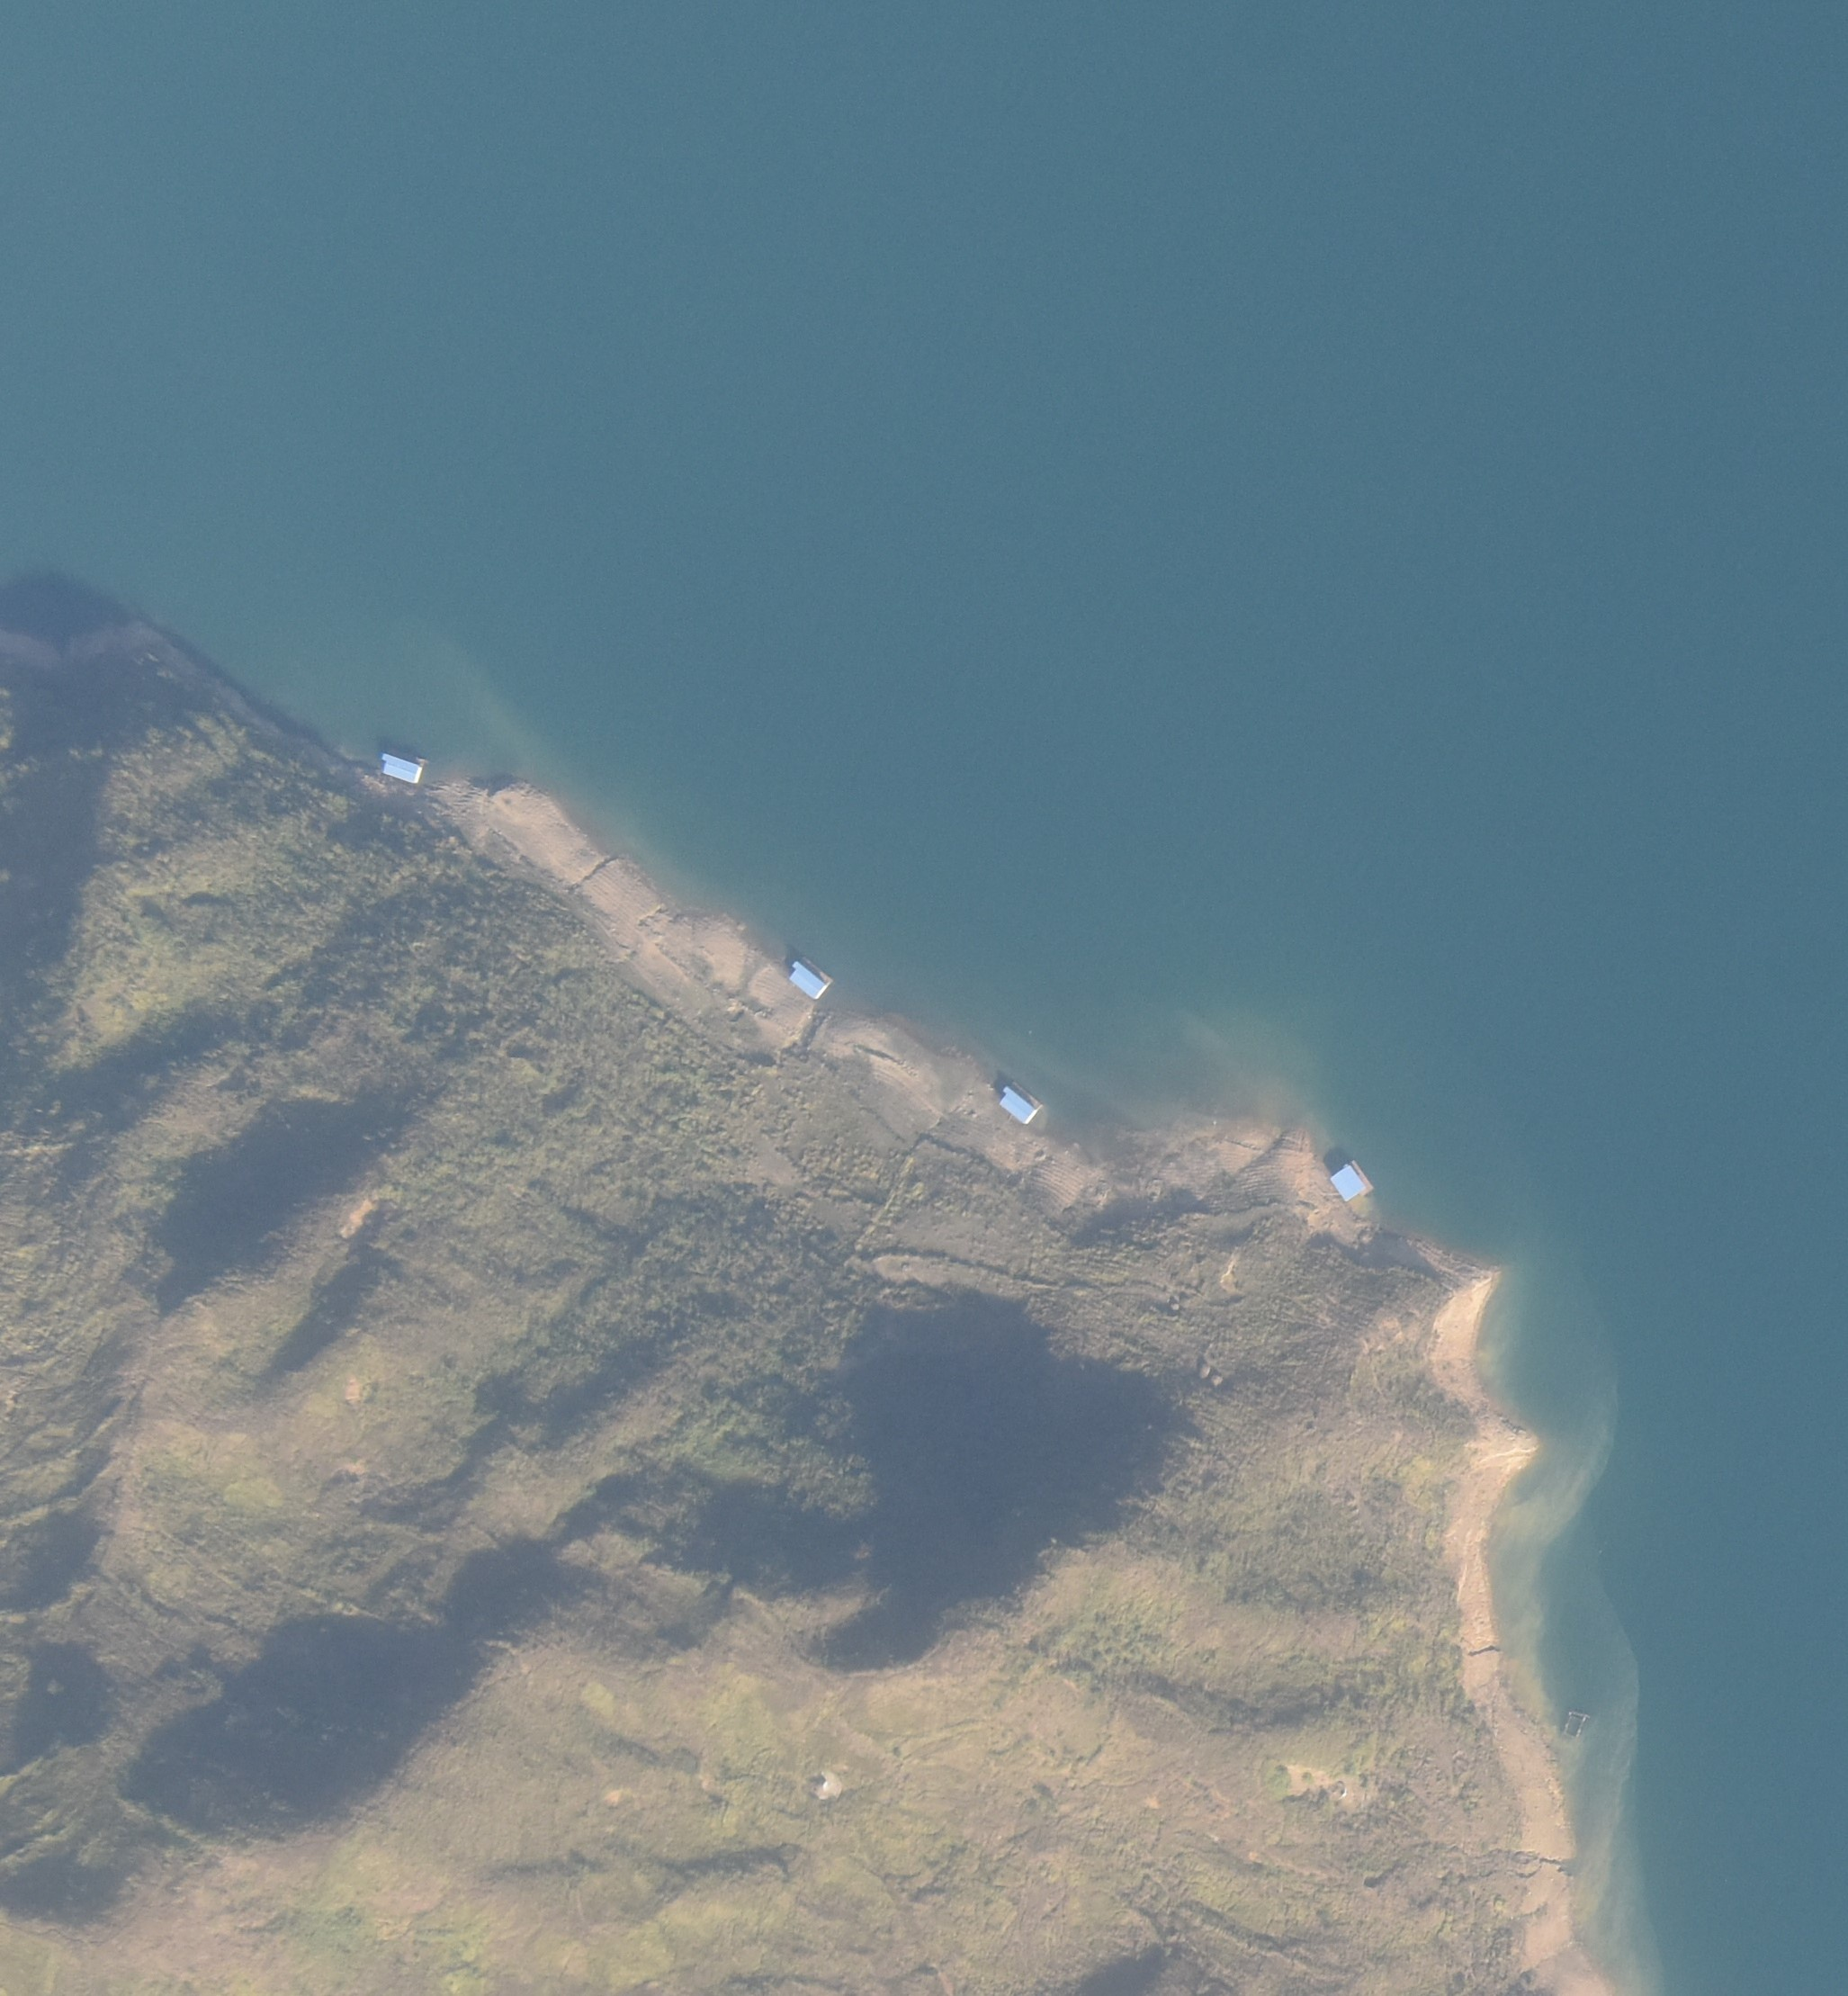prefabricated-house: (788, 958, 828, 1003), (1001, 1083, 1040, 1130), (1330, 1160, 1366, 1203), (381, 755, 424, 782)
well: (812, 1766, 841, 1801)
